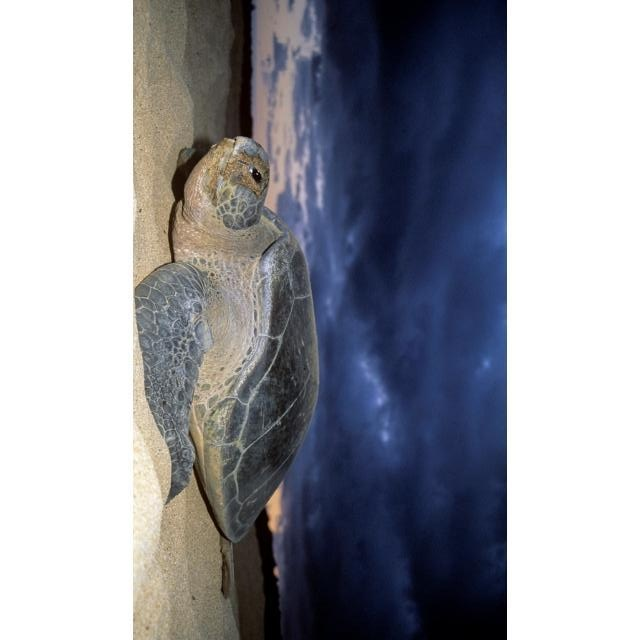turtle: (136, 135, 320, 545)
